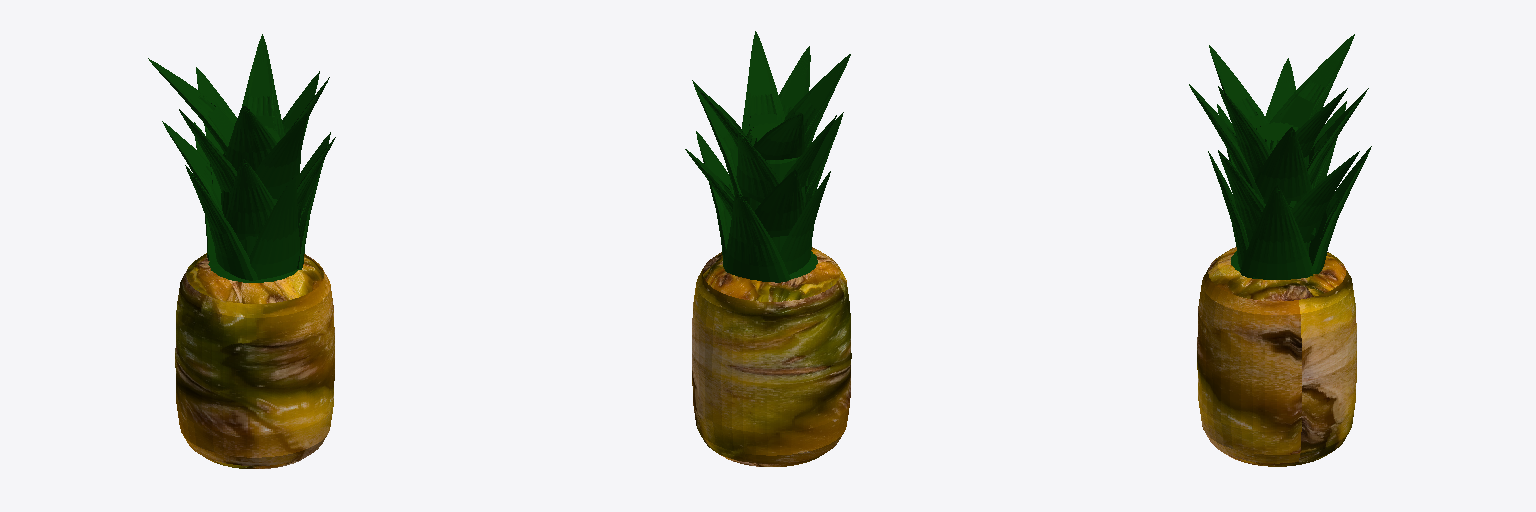
3 views of the same model, side by side, from view 1: azimuth 30°, elevation 25°; view 2: azimuth 150°, elevation 25°; view 3: azimuth 270°, elevation 25° (orthographic).
Parts seen in each view (by area): view 1: pineapple:pCone17; view 2: pineapple:pCone17; view 3: pineapple:pCone17.
Part boxes in pixels (left/top/right/bottom): pineapple:pCone17: left=148, top=34, right=335, bottom=468; pineapple:pCone17: left=685, top=31, right=851, bottom=466; pineapple:pCone17: left=1189, top=34, right=1371, bottom=466.
Size of the model in its own units: 0.5388 by 1.34 by 0.5858.
Materials: 2 (1 with a texture image).